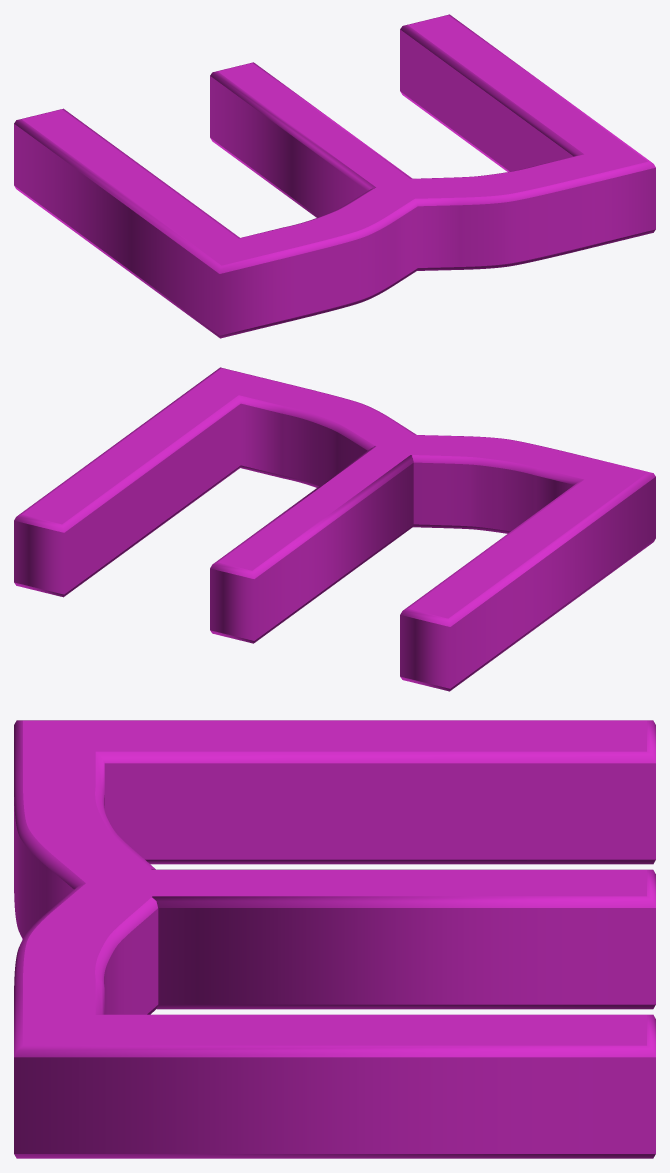
The model's file is Letter_M_Capital_CoolFont.fbx.
The picture shows the model from 3 angles, top to bottom: view 1: azimuth 30°, elevation 25°; view 2: azimuth 150°, elevation 25°; view 3: azimuth 270°, elevation 25°; orthographic projection. The views are drawn at different scales.
Visible parts, largest first — view 1: Letter_M; view 2: Letter_M; view 3: Letter_M.
Boxes of the visible parts, <box> form: Letter_M: <box>14,14,655,338</box>; Letter_M: <box>14,367,655,691</box>; Letter_M: <box>14,720,655,1158</box>.
Size of the model in its own units: 0.8871 by 0.14 by 0.7241.
